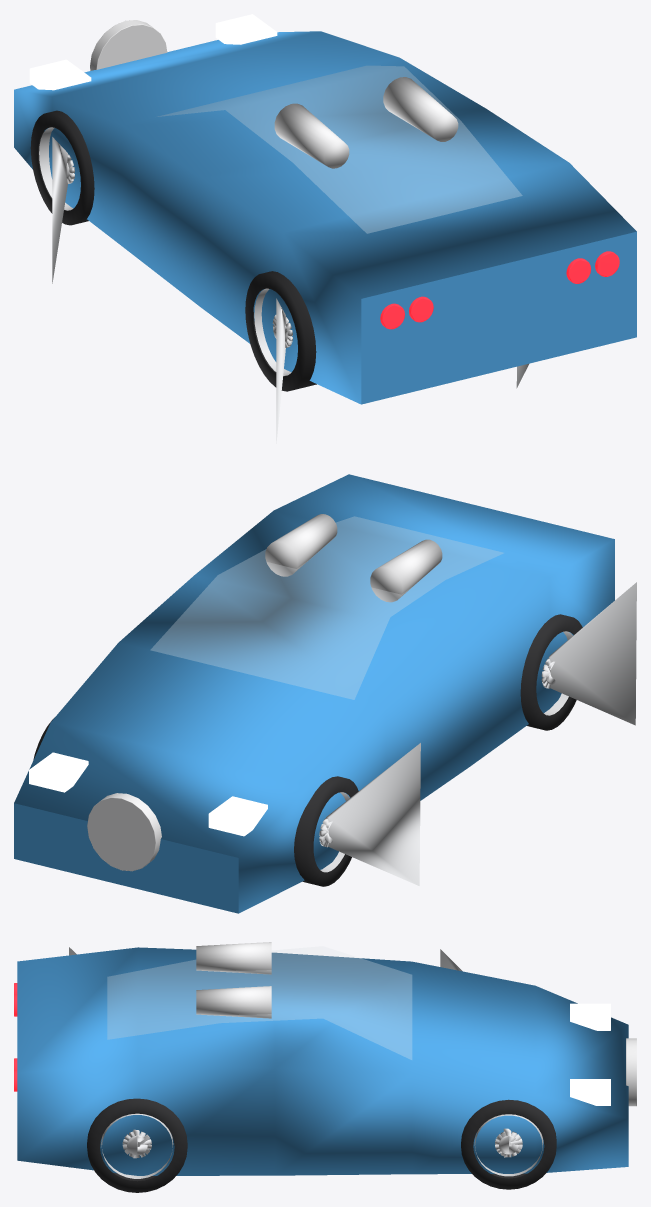
Rendered from Car_Bugatti_Veyron_16.4_2000s.glb.
3 views of the same model, one above another, from view 1: azimuth 30°, elevation 25°; view 2: azimuth 150°, elevation 25°; view 3: azimuth 270°, elevation 25° (orthographic). The views are drawn at different scales.
Visible parts, largest first — view 1: BODY_Veyron_MainShell, GLASS_Greenhouse, BODY_Roof_AirScoops, WHEEL_RR_Tire, WHEEL_FR_Tire, LIGHT_Headlights, BODY_Horseshoe_Grille, WHEEL_FR_Rim, LIGHT_Taillights, WHEEL_RR_Rim; view 2: BODY_Veyron_MainShell, GLASS_Greenhouse, WHEEL_FR_Rim, WHEEL_RR_Rim, BODY_Roof_AirScoops, BODY_Horseshoe_Grille, LIGHT_Headlights, WHEEL_FR_Tire, WHEEL_RR_Tire; view 3: BODY_Veyron_MainShell, GLASS_Greenhouse, BODY_Roof_AirScoops, WHEEL_RL_Tire, WHEEL_FL_Tire, LIGHT_Headlights, WHEEL_RL_Rim, WHEEL_FL_Rim, BODY_Horseshoe_Grille.
Part boxes in pixels (<box>): BODY_Veyron_MainShell: <box>14,31,636,404</box>; GLASS_Greenhouse: <box>158,66,522,233</box>; BODY_Roof_AirScoops: <box>274,77,458,168</box>; WHEEL_RR_Tire: <box>245,271,316,391</box>; WHEEL_FR_Tire: <box>30,110,94,225</box>; LIGHT_Headlights: <box>29,14,277,90</box>; BODY_Horseshoe_Grille: <box>90,20,167,70</box>; WHEEL_FR_Rim: <box>39,127,74,283</box>; LIGHT_Taillights: <box>380,251,619,329</box>; WHEEL_RR_Rim: <box>254,288,292,443</box>; BODY_Veyron_MainShell: <box>14,474,614,913</box>; GLASS_Greenhouse: <box>151,516,503,699</box>; WHEEL_FR_Rim: <box>319,743,420,885</box>; WHEEL_RR_Rim: <box>541,582,636,725</box>; BODY_Roof_AirScoops: <box>265,514,442,602</box>; BODY_Horseshoe_Grille: <box>87,793,161,871</box>; LIGHT_Headlights: <box>29,752,267,836</box>; WHEEL_FR_Tire: <box>294,776,358,886</box>; WHEEL_RR_Tire: <box>520,614,582,730</box>; BODY_Veyron_MainShell: <box>17,947,628,1175</box>; GLASS_Greenhouse: <box>107,946,411,1059</box>; BODY_Roof_AirScoops: <box>196,942,271,1018</box>; WHEEL_RL_Tire: <box>87,1098,187,1192</box>; WHEEL_FL_Tire: <box>461,1099,556,1189</box>; LIGHT_Headlights: <box>570,1003,610,1105</box>; WHEEL_RL_Rim: <box>69,1113,173,1178</box>; WHEEL_FL_Rim: <box>474,1114,543,1176</box>; BODY_Horseshoe_Grille: <box>626,1038,636,1106</box>.
Bounding box in the file's own units: 2.4 × 1.49 × 4.54.
